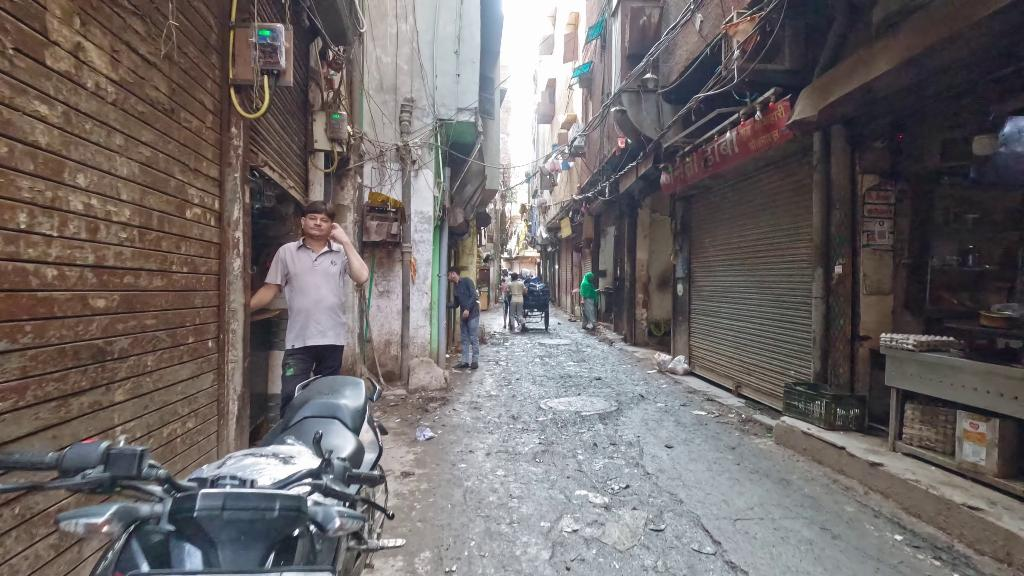garbage: (667, 355, 690, 376), (652, 352, 674, 372), (415, 425, 439, 442)
